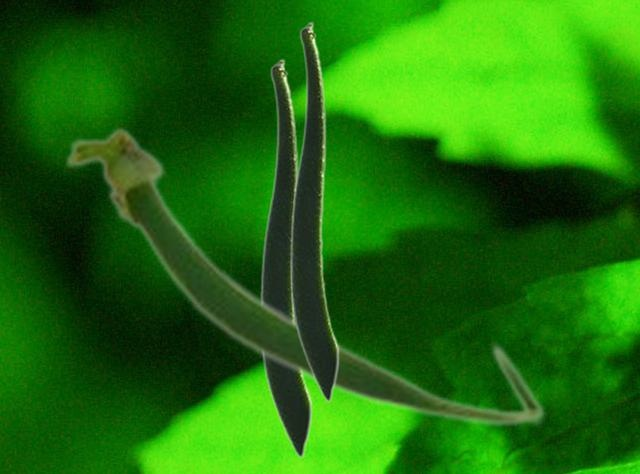french_bean: (62, 123, 546, 428), (259, 58, 312, 458), (289, 21, 339, 402)
